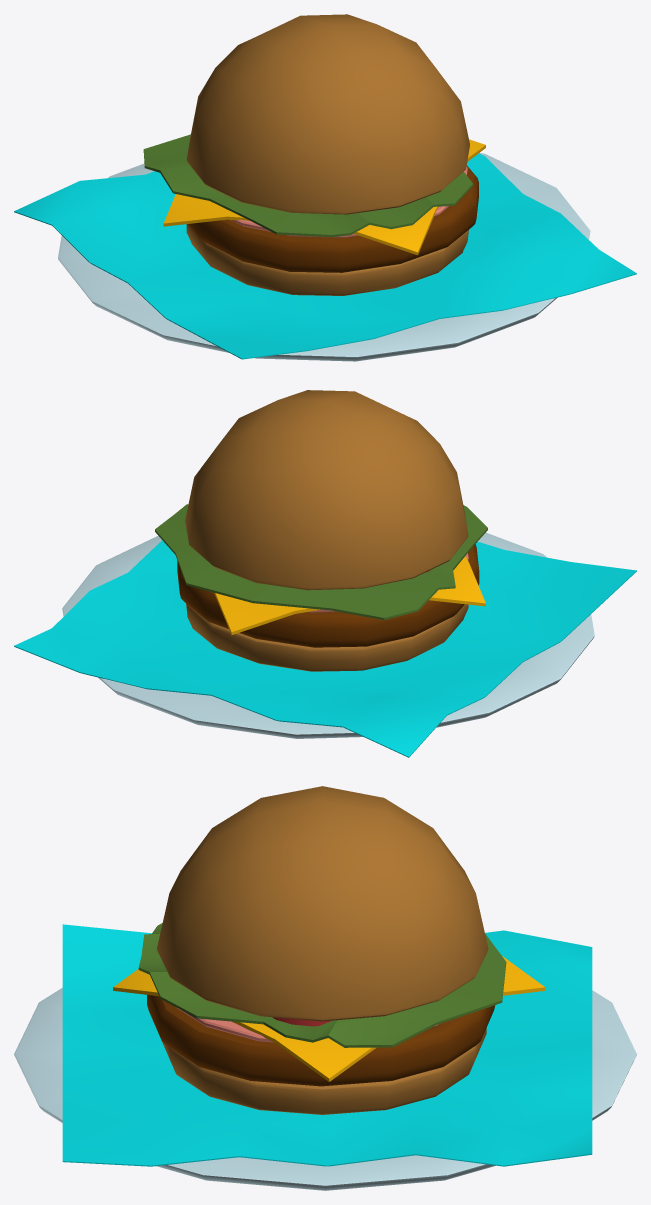
Rendered from Burger.fbx.
The picture shows the model from 3 angles, top to bottom: view 1: azimuth 30°, elevation 25°; view 2: azimuth 150°, elevation 25°; view 3: azimuth 270°, elevation 25°; orthographic projection. The views are drawn at different scales.
Visible parts, largest first — view 1: bake_paper.002, bun_top, Cube.032, Patty, Lettuce, bun_buttom, Plane; view 2: bake_paper.002, bun_top, Cube.032, Lettuce, Patty, bun_buttom, Plane; view 3: bake_paper.002, bun_top, Cube.032, Patty, Lettuce, bun_buttom, Plane, sauce.
Part boxes in pixels (x1=…): bake_paper.002: x1=14, y1=153, x2=636, y2=359; bun_top: x1=186, y1=14, x2=469, y2=214; Cube.032: x1=58, y1=153, x2=590, y2=361; Patty: x1=187, y1=165, x2=478, y2=272; Lettuce: x1=143, y1=134, x2=473, y2=237; bun_buttom: x1=186, y1=224, x2=468, y2=295; Plane: x1=163, y1=139, x2=485, y2=255; bake_paper.002: x1=14, y1=540, x2=636, y2=757; bun_top: x1=185, y1=390, x2=468, y2=590; Cube.032: x1=62, y1=532, x2=594, y2=738; Lettuce: x1=155, y1=504, x2=487, y2=619; Patty: x1=177, y1=544, x2=479, y2=647; bun_buttom: x1=186, y1=603, x2=468, y2=671; Plane: x1=214, y1=556, x2=485, y2=634; bake_paper.002: x1=62, y1=924, x2=592, y2=1166; bun_top: x1=157, y1=786, x2=488, y2=1021; Cube.032: x1=14, y1=988, x2=636, y2=1190; Patty: x1=147, y1=995, x2=495, y2=1086; Lettuce: x1=138, y1=923, x2=506, y2=1047; bun_buttom: x1=162, y1=1028, x2=486, y2=1114; Plane: x1=113, y1=956, x2=545, y2=1081; sauce: x1=176, y1=1007, x2=439, y2=1042.
Size of the model in its own units: 81.31 by 37.96 by 81.31.
